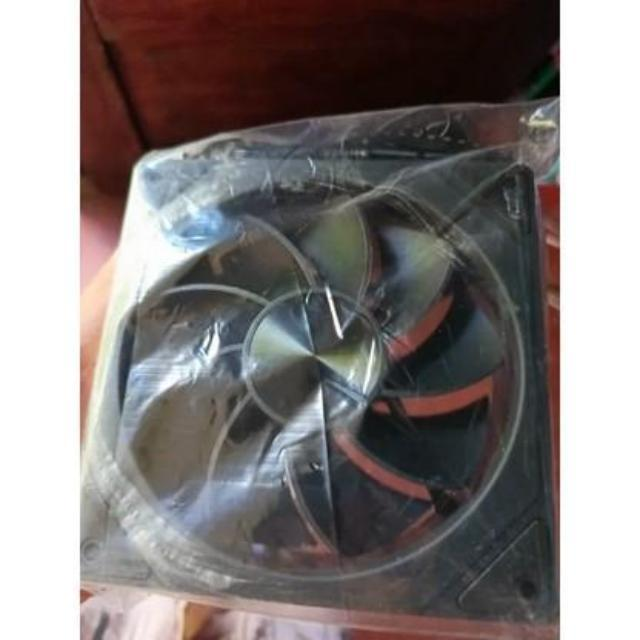CPU_Fan: (78, 142, 560, 638)
